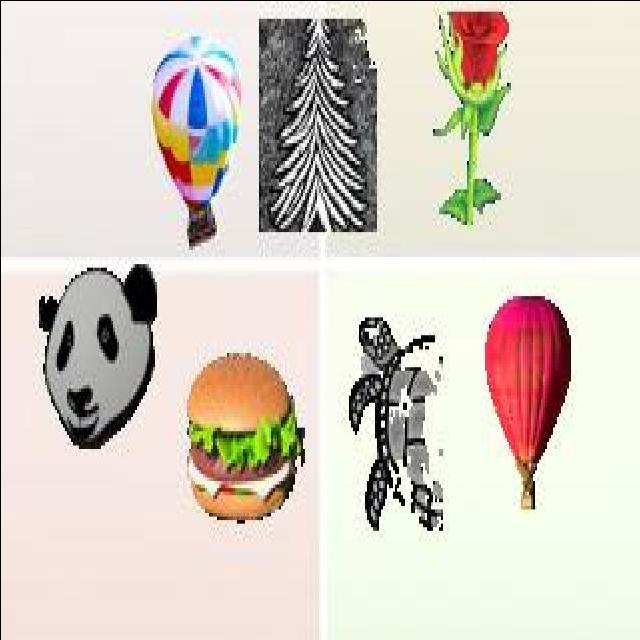Other Objects: (186, 350, 304, 522), (151, 35, 241, 248), (484, 293, 570, 509), (432, 11, 509, 224)
